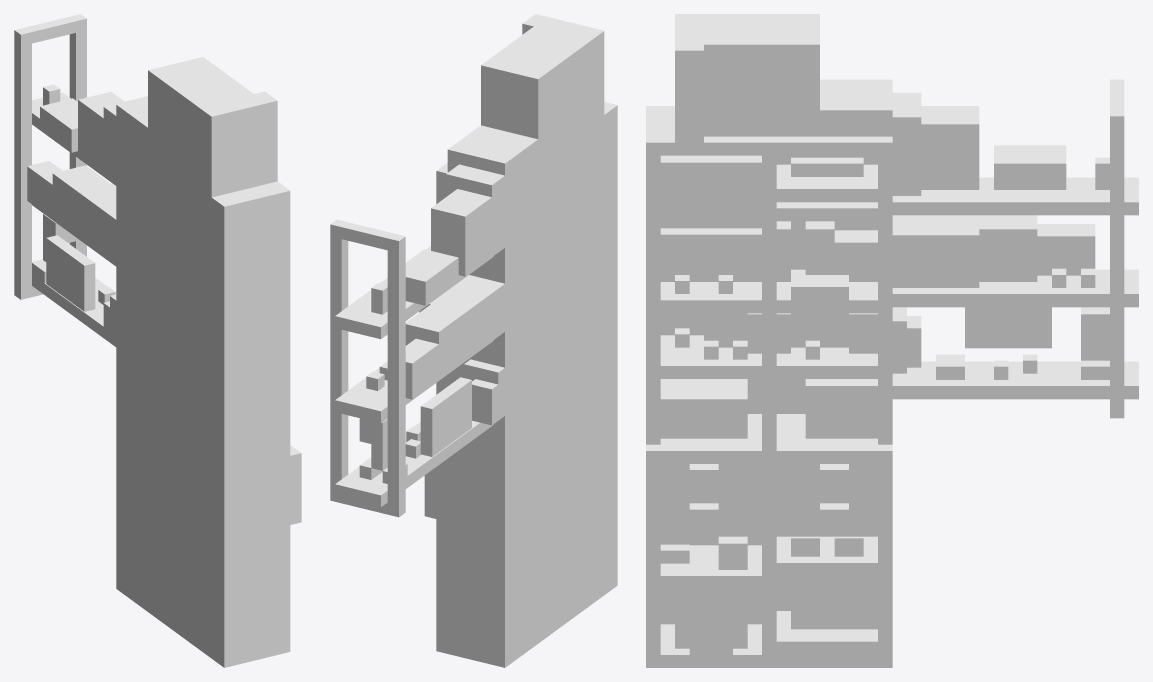
3 renders of one model, left to right at view 1: azimuth 30°, elevation 25°; view 2: azimuth 150°, elevation 25°; view 3: azimuth 270°, elevation 25°, orthographic. The views are drawn at different scales.
Bounding box in the file's own units: 8 × 47 × 34.
1 material, 1 textured.
